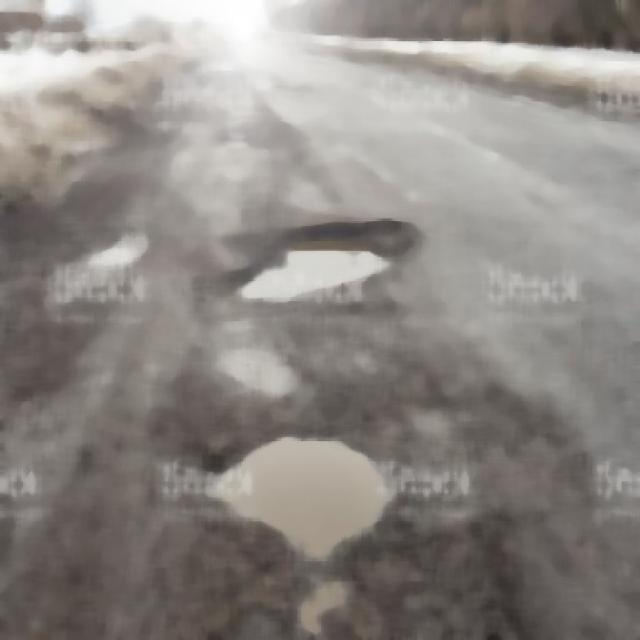Pothole: (195, 416, 372, 562), (238, 221, 412, 301)
